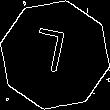L_S: (35, 27, 75, 83)
